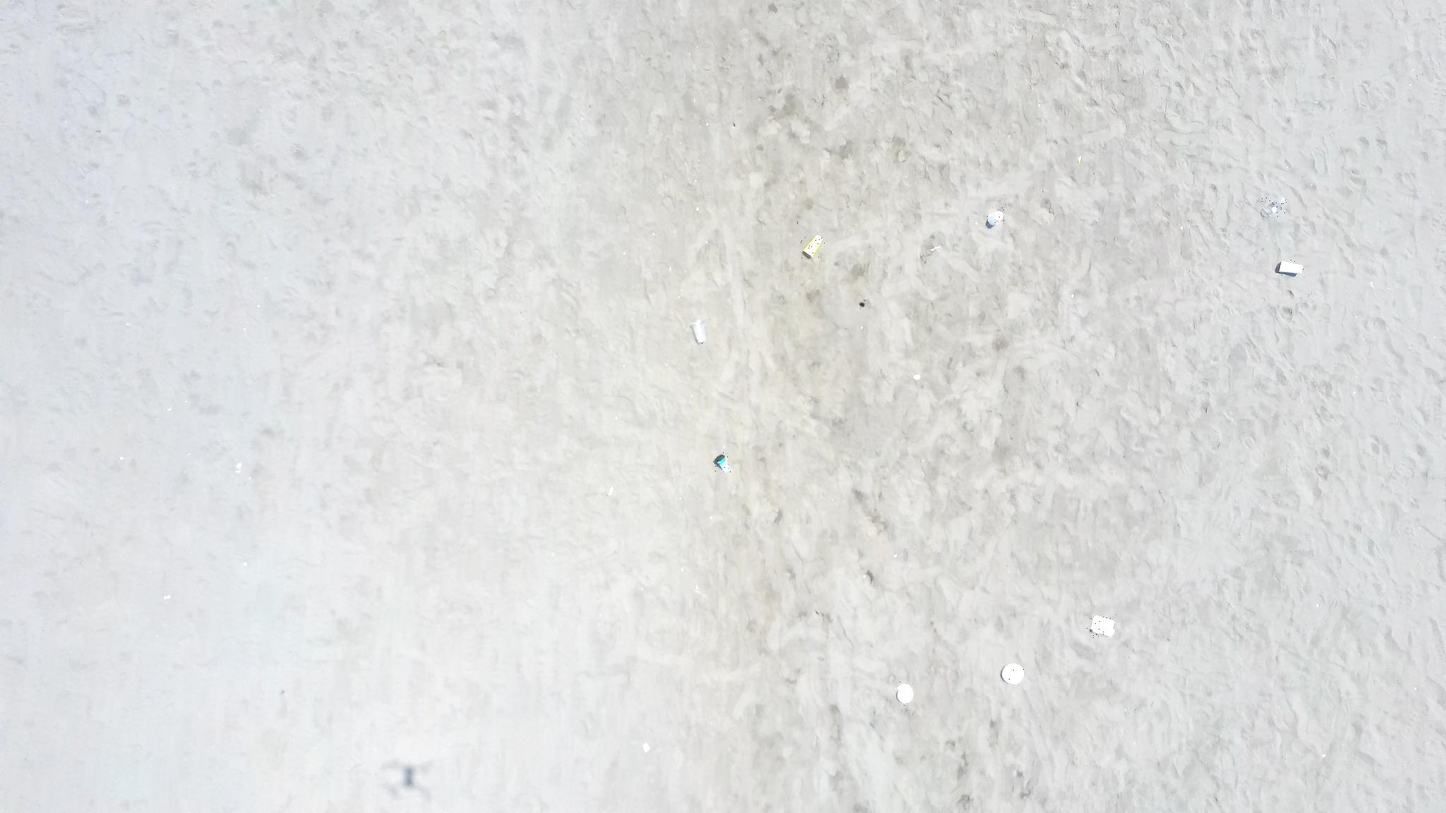Garbage: (1260, 198, 1287, 219), (1089, 615, 1114, 637), (1000, 663, 1023, 684), (803, 234, 822, 258), (1276, 260, 1303, 276), (895, 684, 913, 704), (985, 209, 1004, 227), (712, 454, 729, 472), (692, 320, 704, 342), (643, 742, 650, 752), (914, 373, 921, 380), (859, 300, 865, 306)
